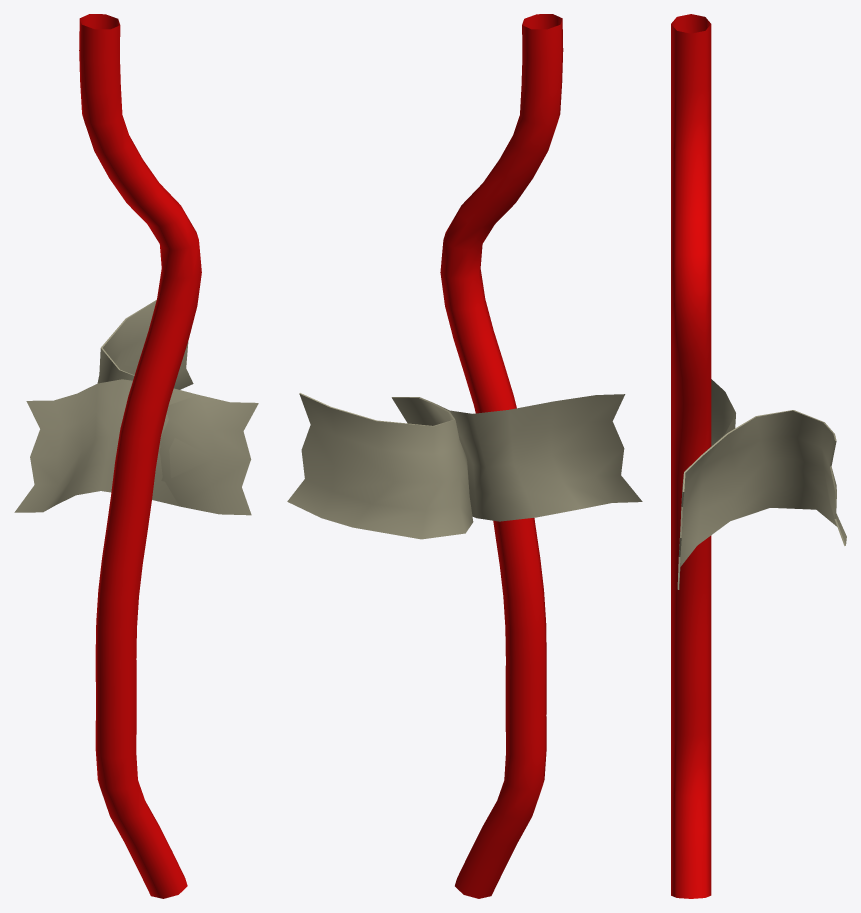
File: Wire4Unit.fbx
3 renders of one model, left to right at view 1: azimuth 30°, elevation 25°; view 2: azimuth 150°, elevation 25°; view 3: azimuth 270°, elevation 25°, orthographic. The views are drawn at different scales.
Parts seen in each view (by area): view 1: Wire4, TapeStuck4, TapeUnStuck4; view 2: Wire4, TapeUnStuck4, TapeStuck4; view 3: Wire4, TapeUnStuck4, TapeStuck4.
Part boxes in pixels (x1,y1,x2,y2): Wire4: [79, 14, 201, 898]; TapeStuck4: [14, 379, 258, 515]; TapeUnStuck4: [97, 300, 257, 514]; Wire4: [440, 14, 563, 898]; TapeUnStuck4: [287, 393, 473, 539]; TapeStuck4: [436, 394, 642, 521]; Wire4: [671, 14, 711, 898]; TapeUnStuck4: [677, 410, 846, 589]; TapeStuck4: [679, 379, 735, 550].
Size of the model in its own units: 0.1813 by 0.5757 by 0.1085.
